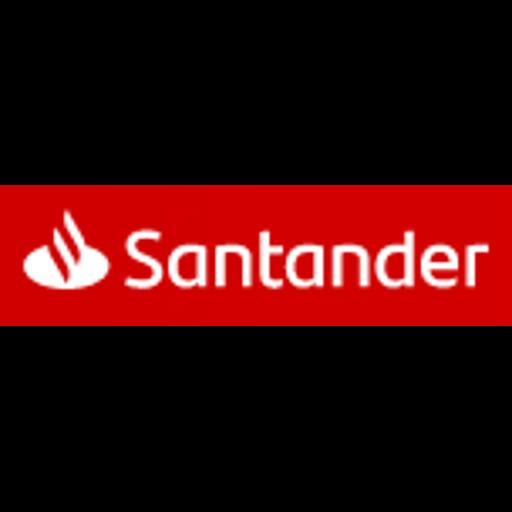Grupo Santander: (0, 185, 512, 326)
